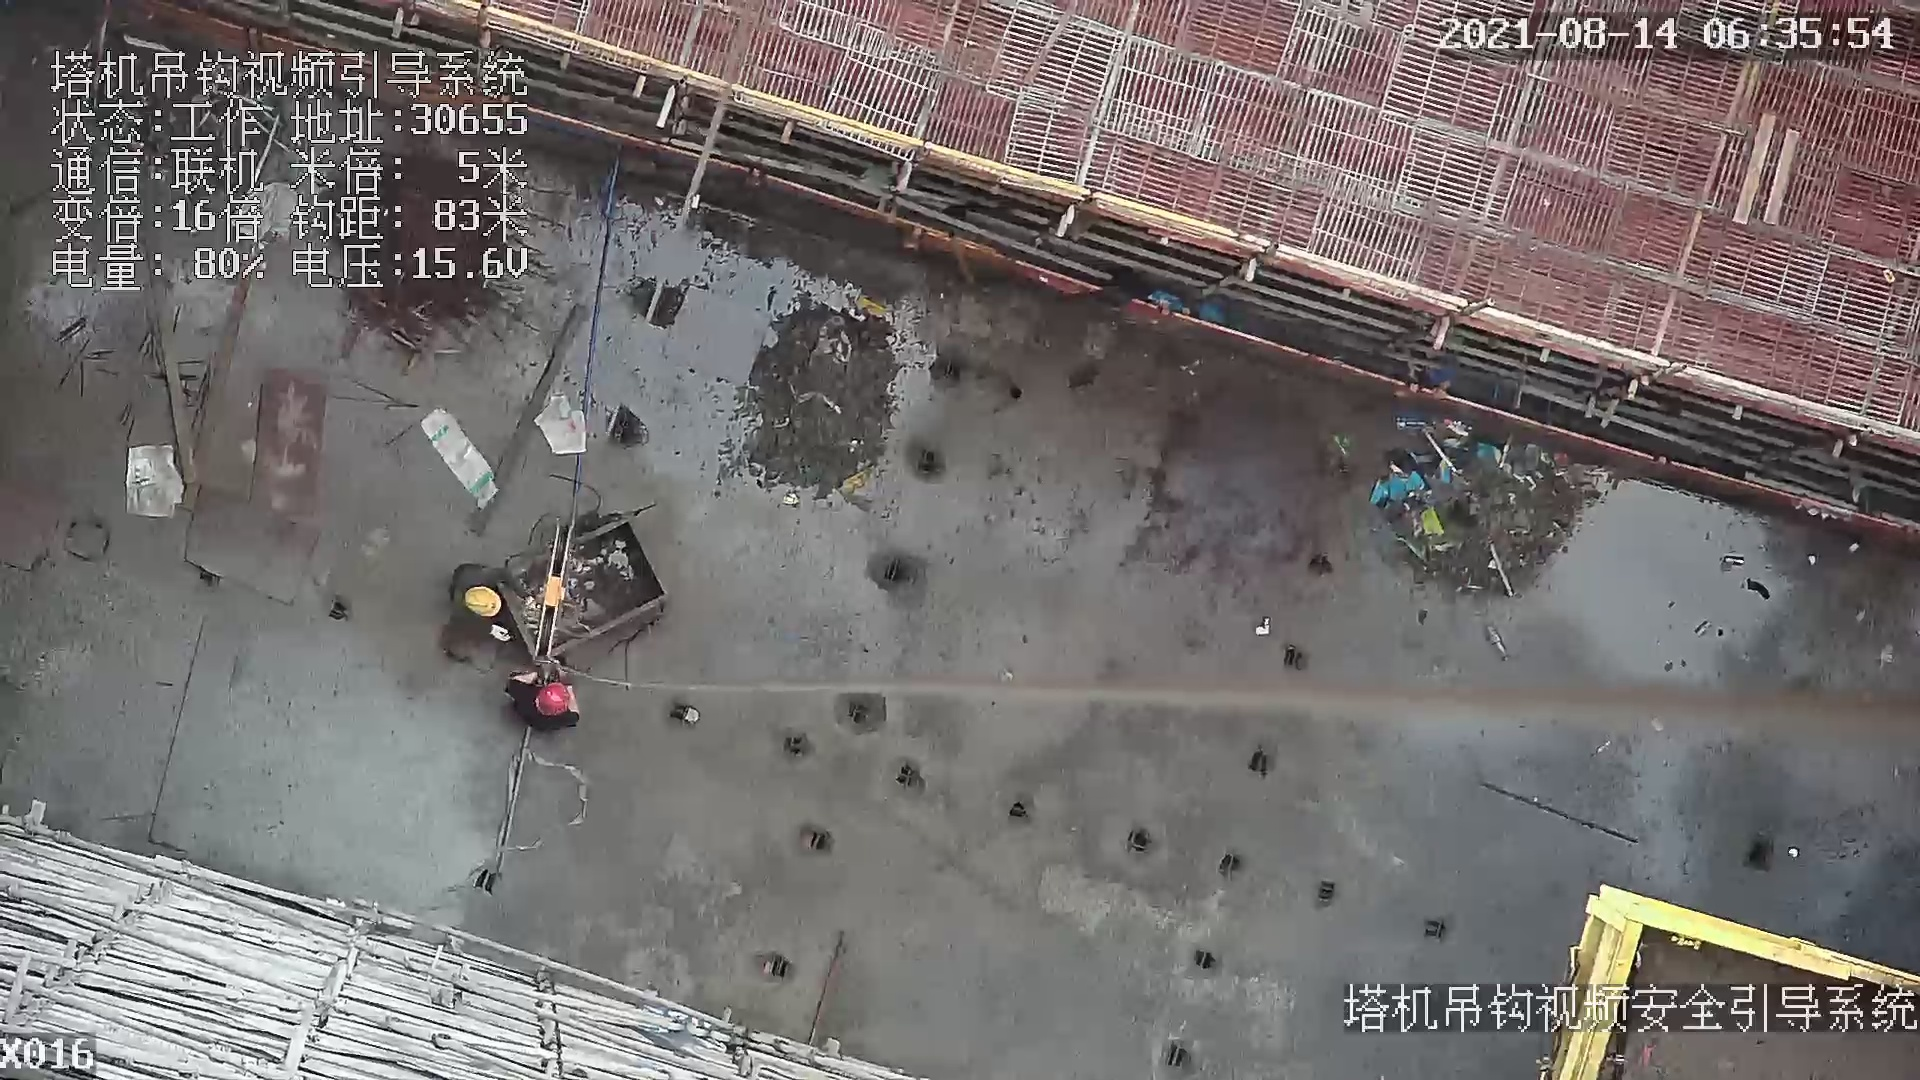helmet: (462, 586, 506, 627), (535, 681, 577, 722)
hook: (535, 513, 577, 686)
hopper: (520, 492, 668, 678)
person: (436, 554, 536, 650), (504, 662, 591, 732)
